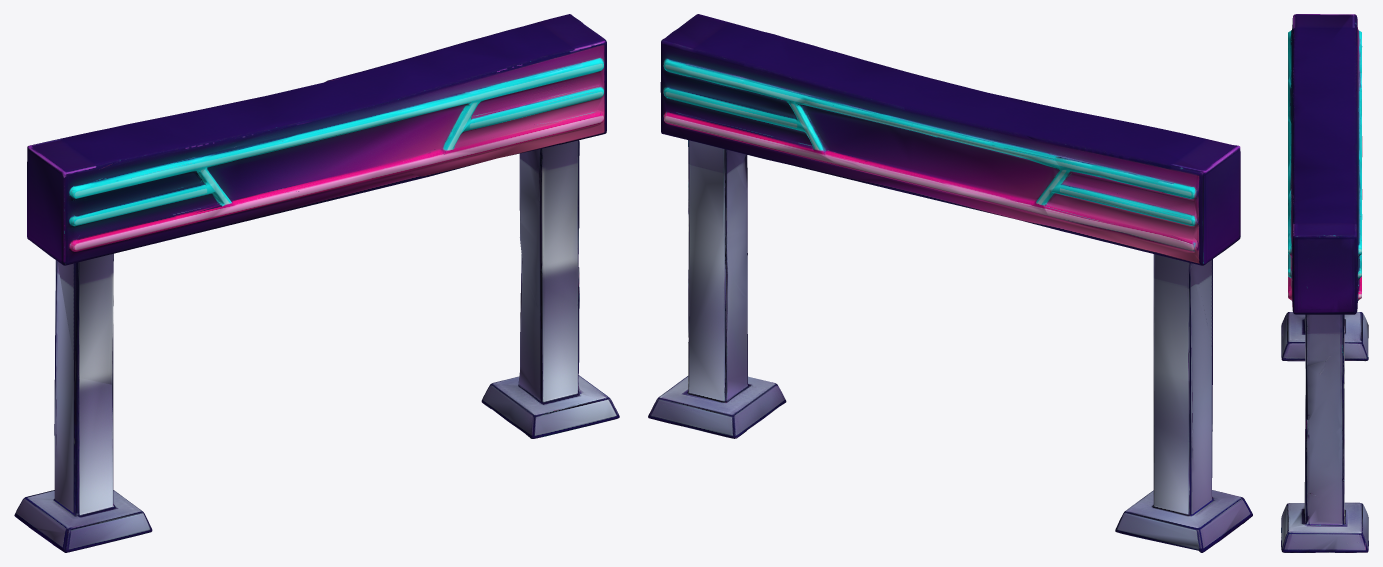
Rendered from arch.glb.
3 views of the same model, side by side, from view 1: azimuth 30°, elevation 25°; view 2: azimuth 150°, elevation 25°; view 3: azimuth 270°, elevation 25° (orthographic). The views are drawn at different scales.
Parts seen in each view (by area): view 1: Mesh_0; view 2: Mesh_0; view 3: Mesh_0.
Boxes of the visible parts, x1,y1,x2,y2 form: Mesh_0: (14,14,619,552); Mesh_0: (648,14,1252,552); Mesh_0: (1281,14,1368,552).
Size of the model in its own units: 1.9 by 1.22 by 0.309.
1 material, 1 textured.
